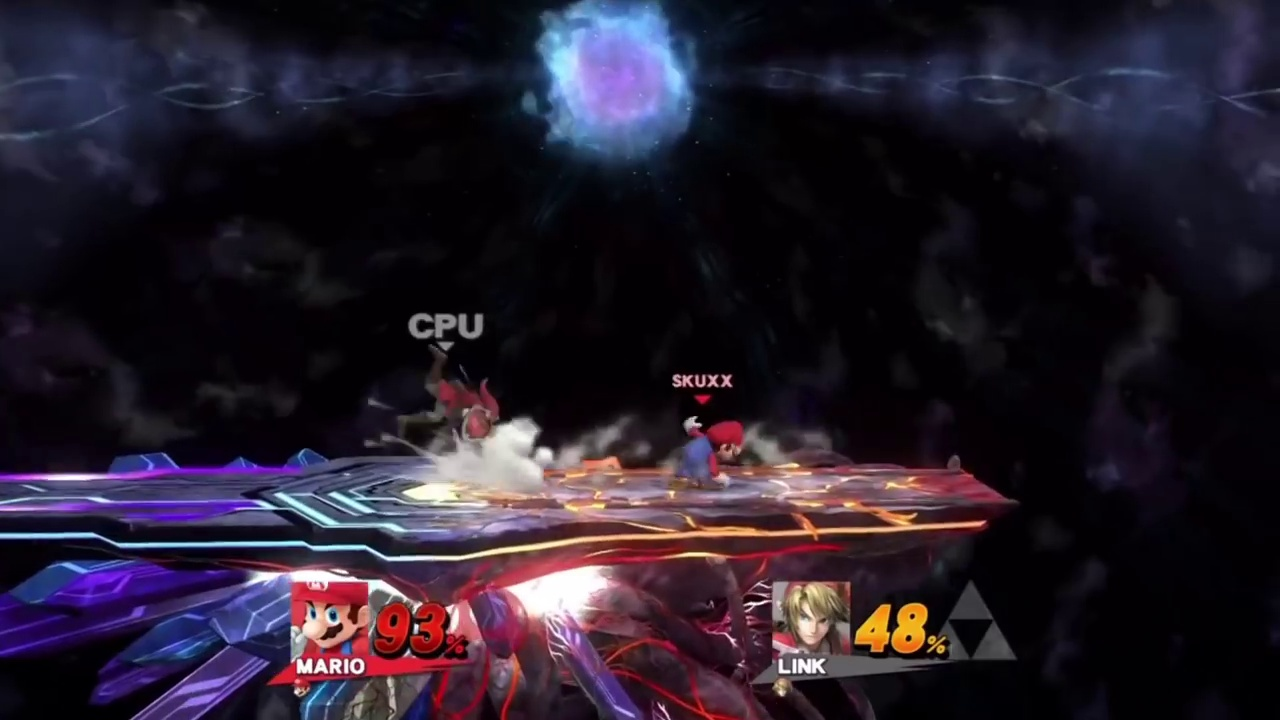Mario: (673, 417, 743, 489)
